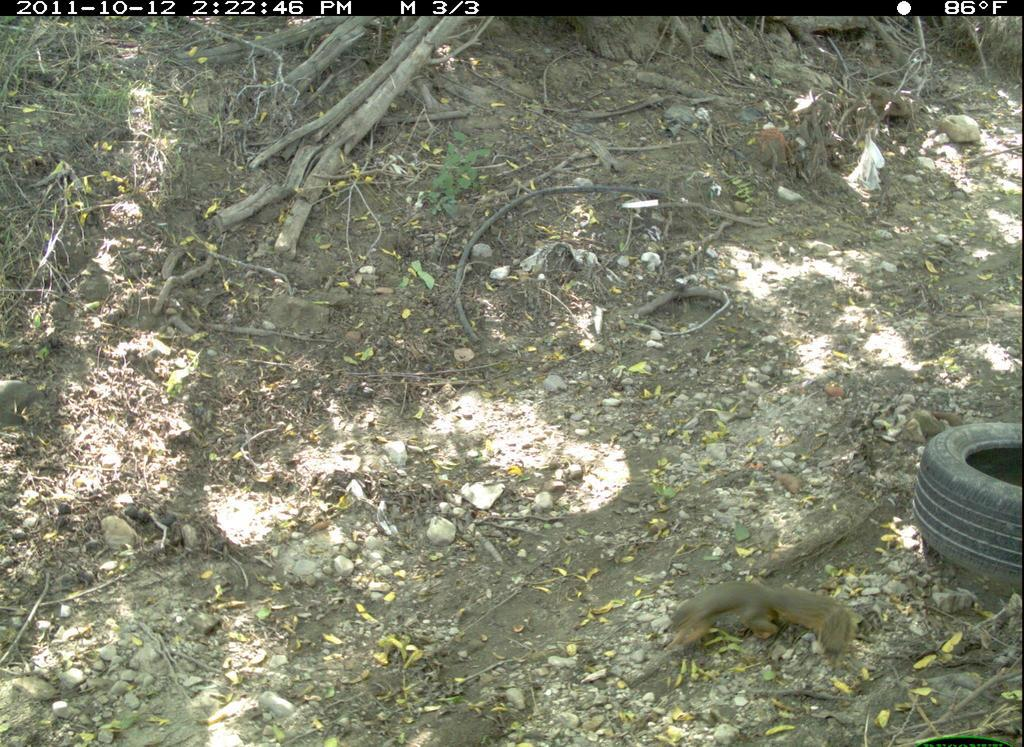squirrel: (646, 569, 870, 667)
